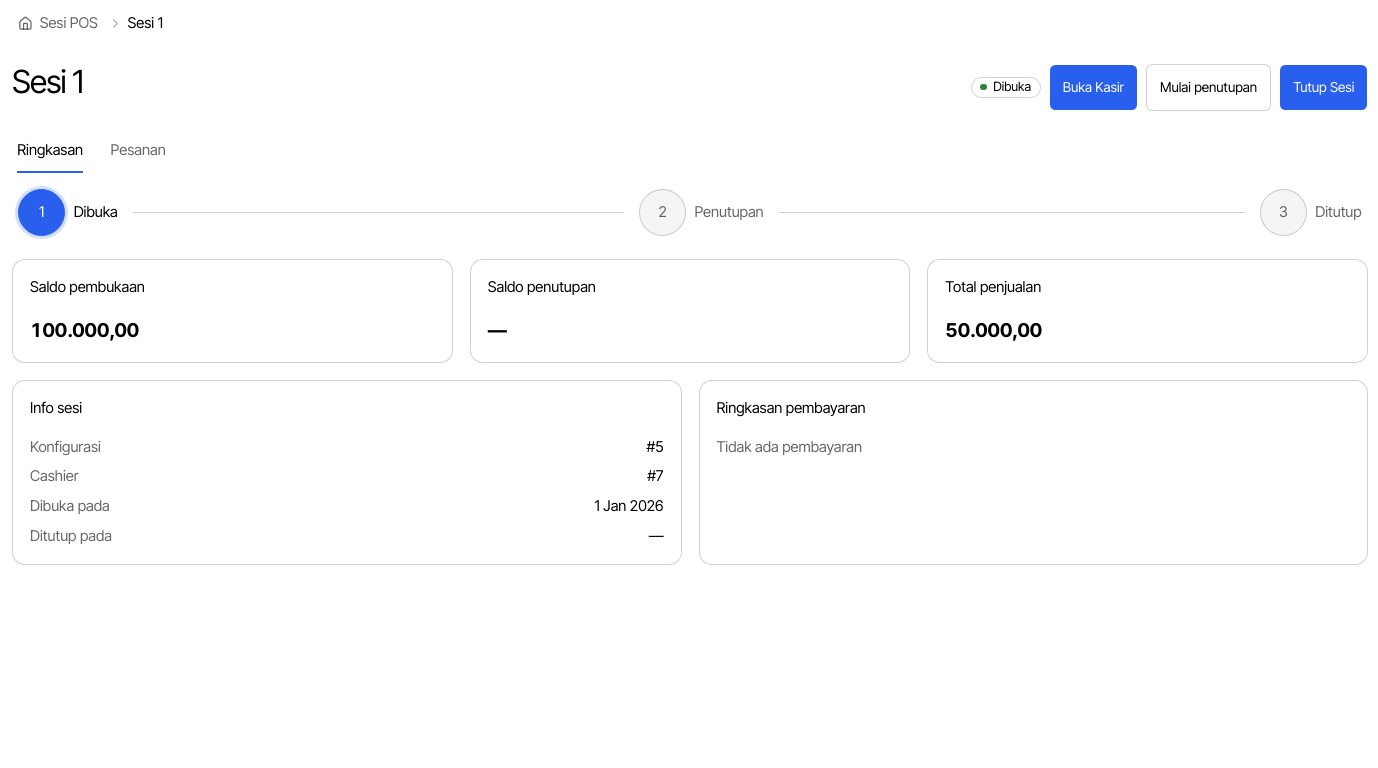
it: PosSessionDetail › shows orders on the orders tab
Expected: the heading "Sesi 1" is shown, top-left (12, 64), bottom-right (83, 100)
Step 1. Click the tab "Pesanan" → (138, 151), box top-left (110, 128), bottom-right (167, 174)
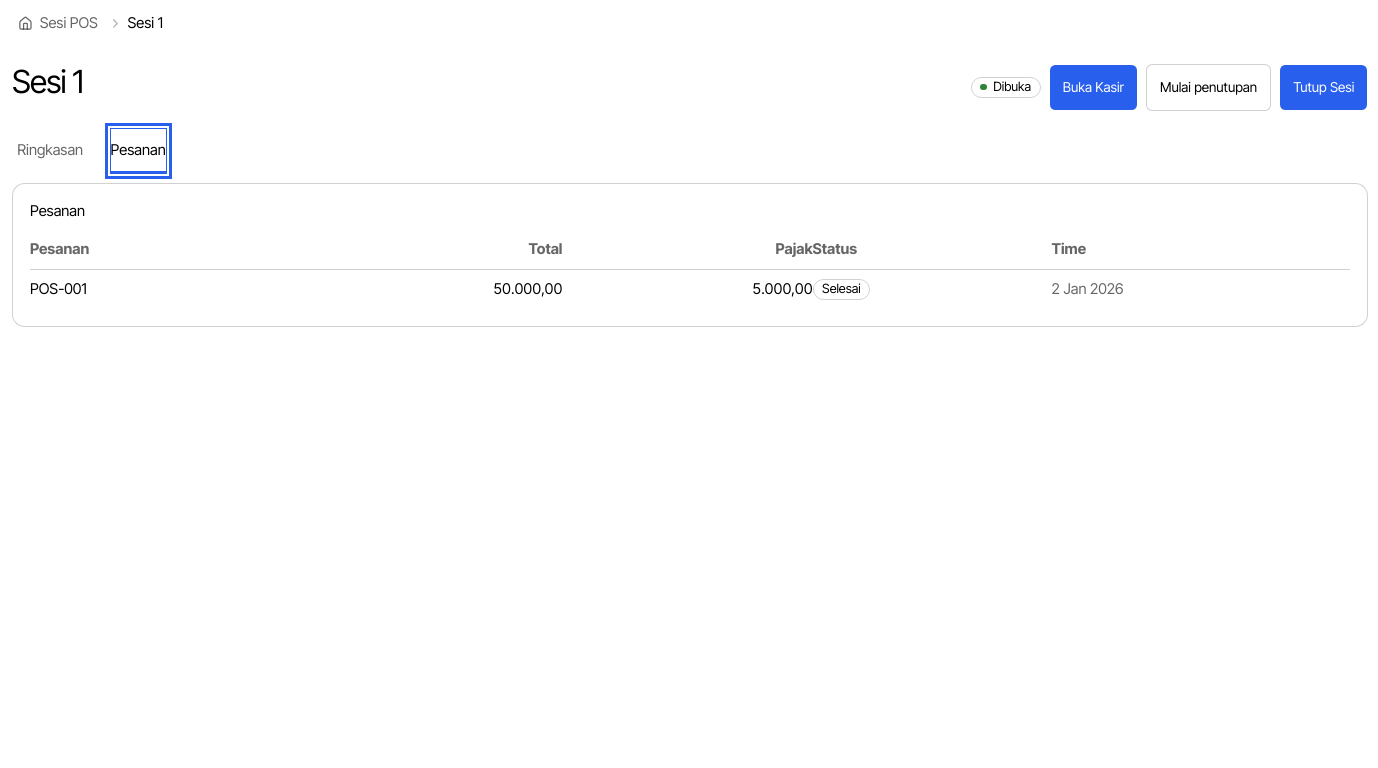
Result: the link "POS-001" is shown at top-left (30, 280), bottom-right (87, 298)
